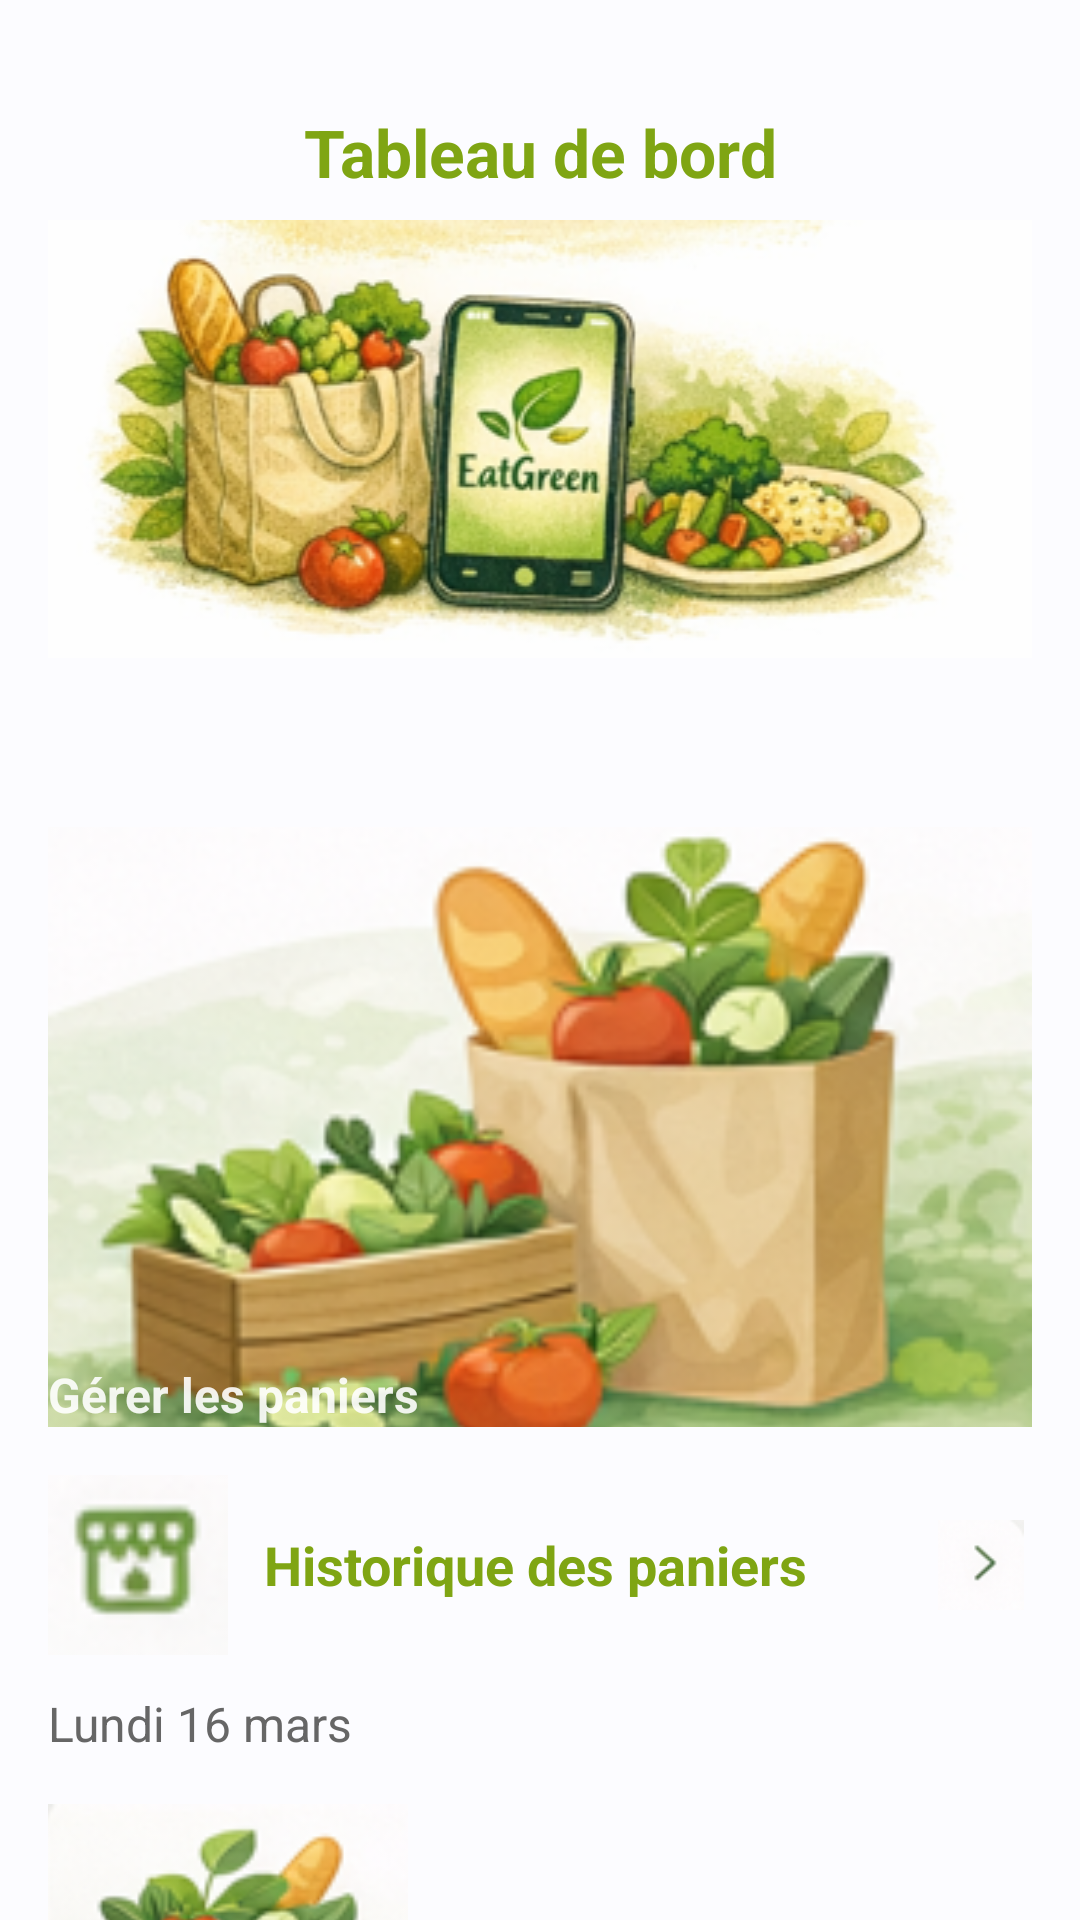

Locate icon controls on the screen. Image size 1080x1920, boxes as box(x1, y1, x2, y2).
back droite: box(974, 1545, 997, 1581)
